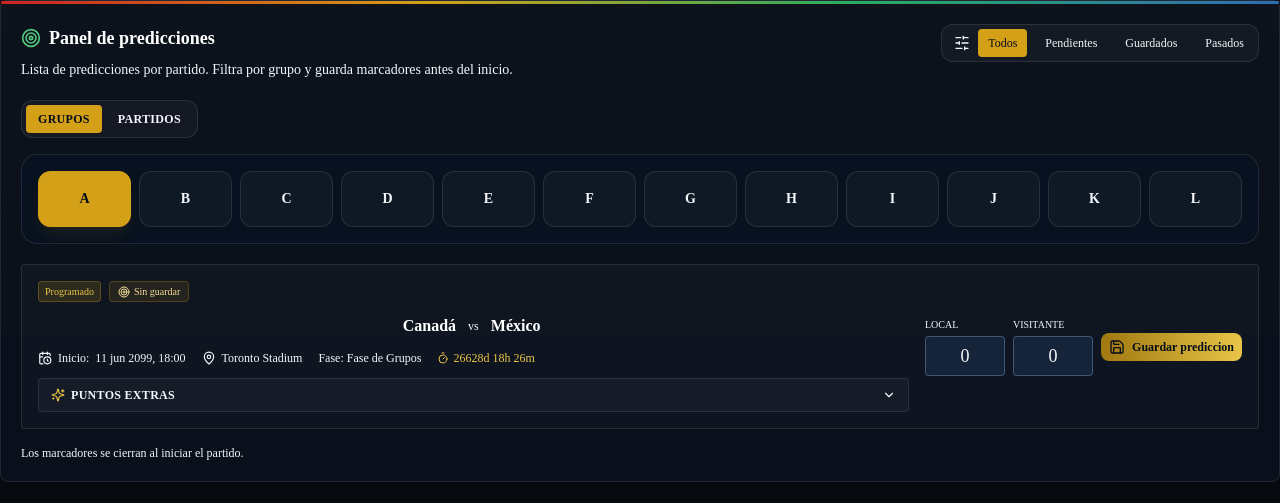
Test case: PredictionPanel › filters match predictions by selected group
This screenshot has width=1280, height=503.
Check: the text "Canadá" is shown, box [403,317,456,334]
Check: the text "Estados Unidos" is not shown
Note: Switch to group B
Click the button "B" at (186, 199), box [139,171,232,227]
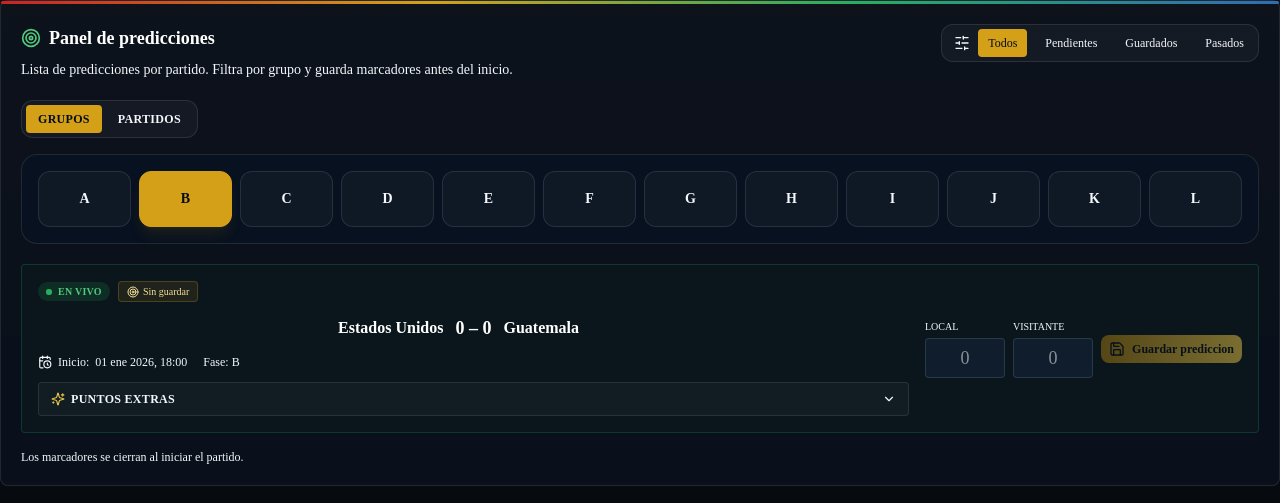
Check: the text "Estados Unidos" is shown, box [338,319,444,336]
Check: the text "Canadá" is gone
Note: Switch back to group A
Click the button "A" at (84, 199), box [38,171,131,227]
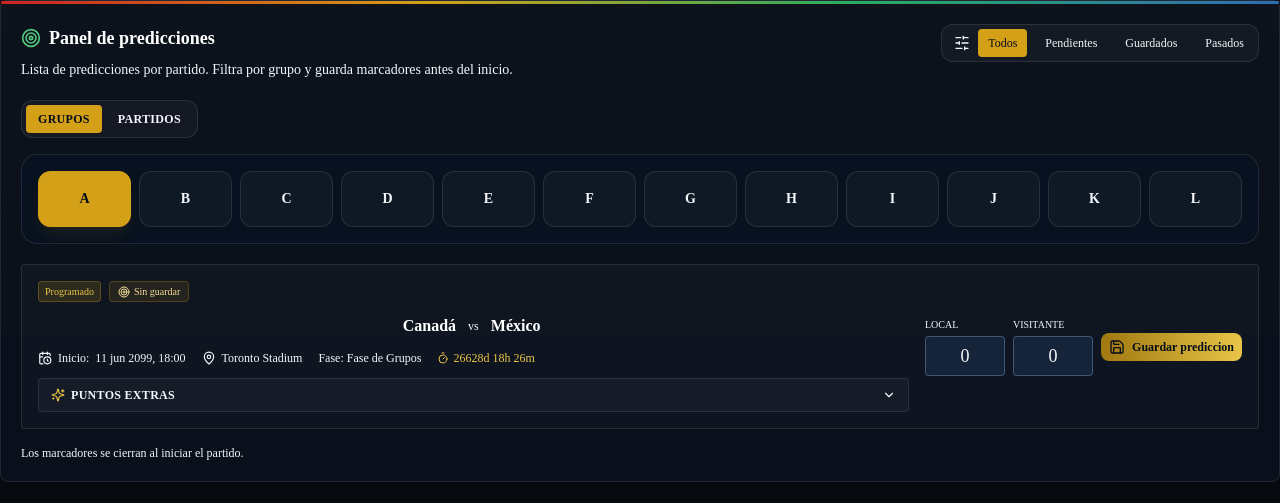
Check: the text "Canadá" is shown, box [403,317,456,334]
Check: the text "Estados Unidos" is gone
